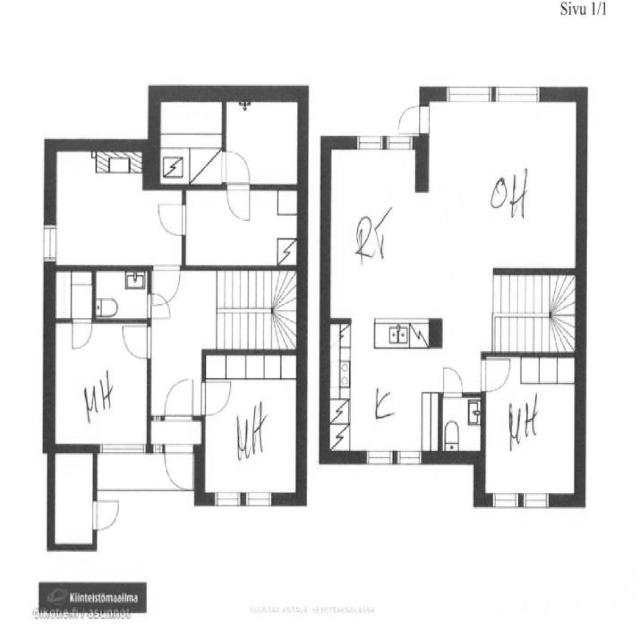door: (180, 190, 304, 270), (94, 265, 152, 324), (224, 149, 255, 228), (162, 373, 198, 423), (475, 353, 515, 398), (389, 100, 426, 147), (161, 443, 195, 494), (153, 196, 190, 241), (118, 321, 154, 365), (198, 377, 235, 419), (89, 494, 124, 536), (150, 263, 182, 308), (221, 146, 252, 186), (437, 362, 467, 402), (68, 317, 95, 354), (146, 290, 175, 324)
window: (431, 76, 552, 111), (438, 76, 498, 108), (355, 444, 425, 471), (483, 488, 555, 514), (490, 78, 548, 110), (208, 487, 282, 512), (349, 129, 397, 156), (38, 214, 61, 268), (94, 437, 150, 458)
zone: (422, 97, 582, 266), (326, 143, 432, 311), (324, 319, 439, 462), (48, 141, 175, 269), (202, 351, 301, 501), (483, 353, 581, 503), (50, 320, 148, 448), (181, 188, 302, 270), (223, 96, 300, 188), (157, 97, 226, 185), (50, 448, 95, 550), (94, 267, 150, 322), (438, 394, 485, 456), (49, 271, 94, 322)
